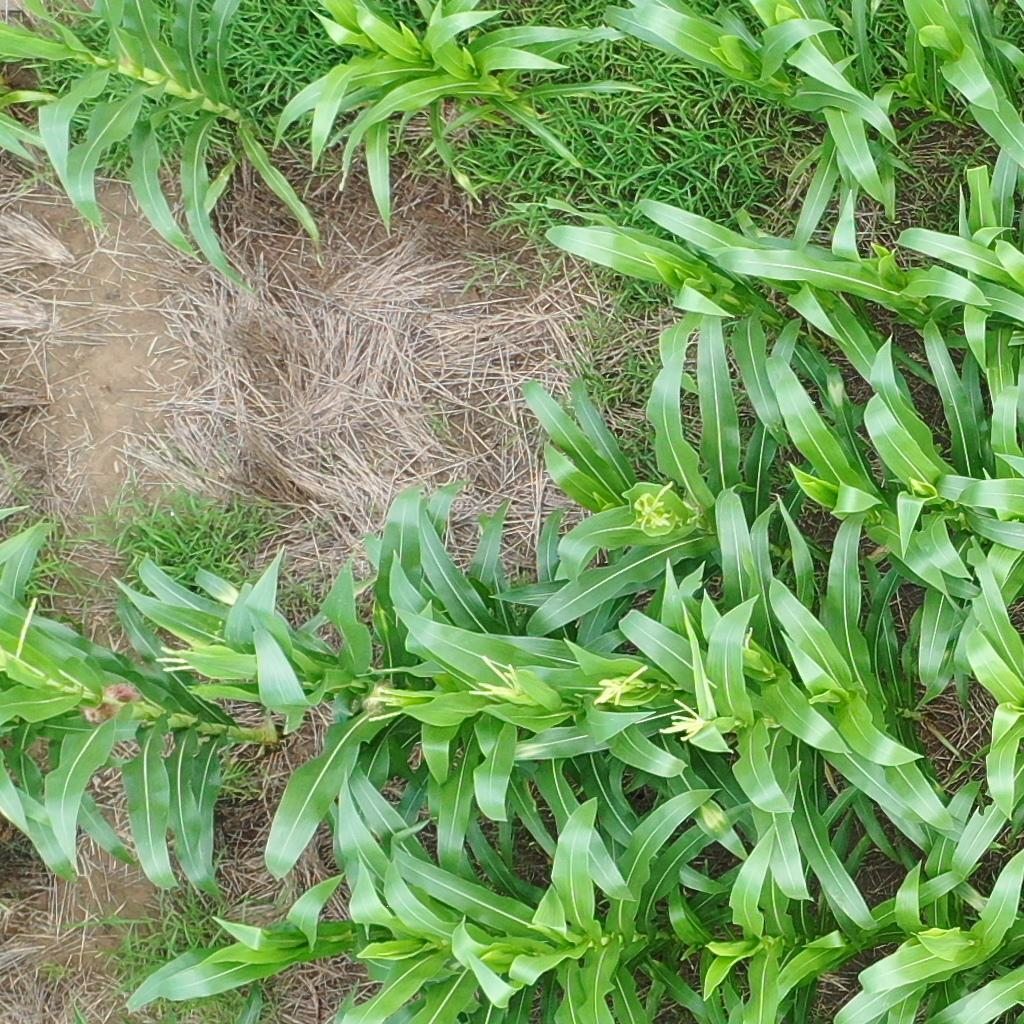Tassel: (1, 595, 87, 692), (467, 650, 522, 705), (594, 658, 649, 710), (630, 479, 680, 533), (660, 692, 708, 746), (359, 675, 408, 723), (154, 643, 193, 677)
